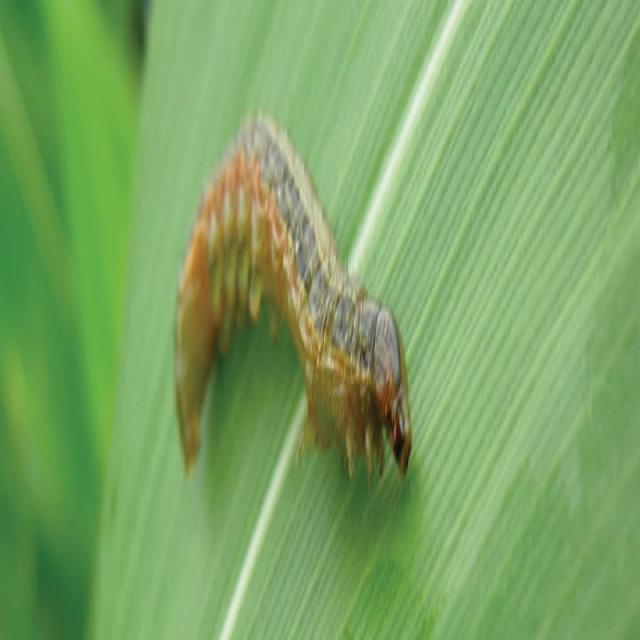pest-armyworm: (171, 100, 415, 501)
